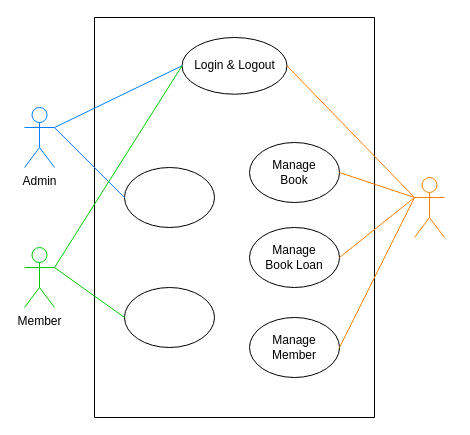
This 470x435 diagram has some shape labels left out. The centre of each missing label's shape, as x and y in pixels:
Find Book: the point at 169,317
Librarian: the point at 429,207
Manage Librarian: the point at 169,197
